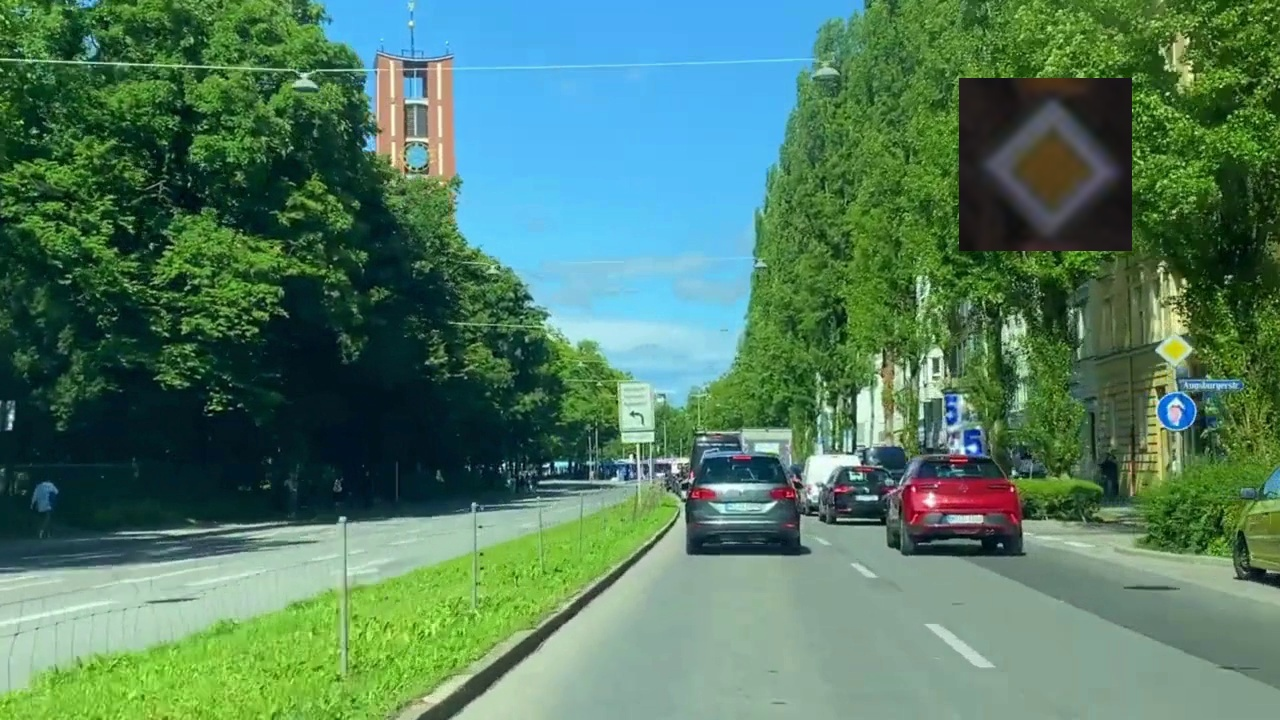Priority road: (959, 78, 1132, 251)
